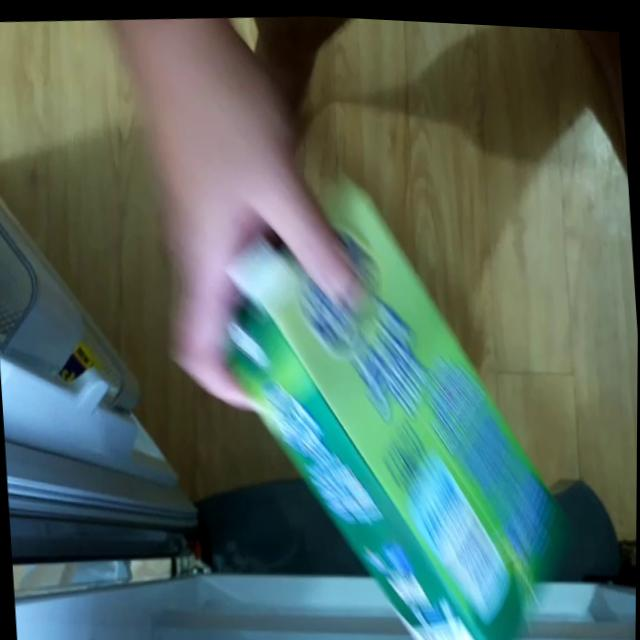milk: (207, 185, 574, 640)
